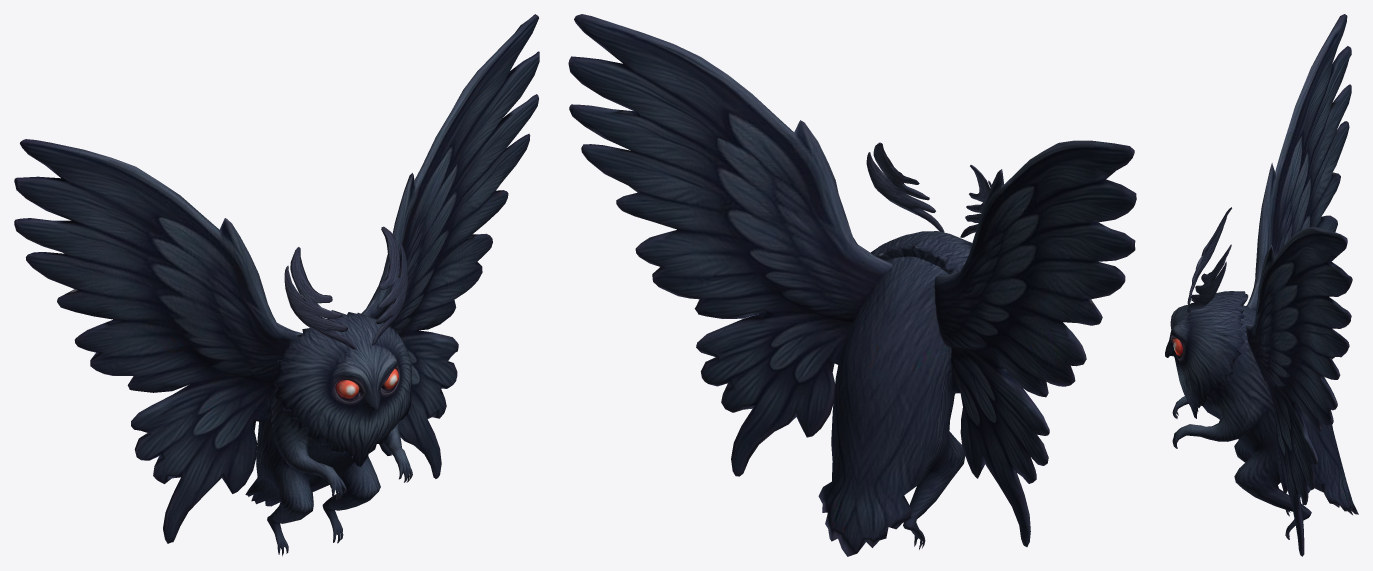
File: mothman.glb
The picture shows the model from 3 angles, left to right: view 1: azimuth 30°, elevation 25°; view 2: azimuth 150°, elevation 25°; view 3: azimuth 270°, elevation 25°; orthographic projection. The views are drawn at different scales.
Bounding box in the file's own units: 1 × 0.8239 × 0.359.
1 material, 1 textured.
